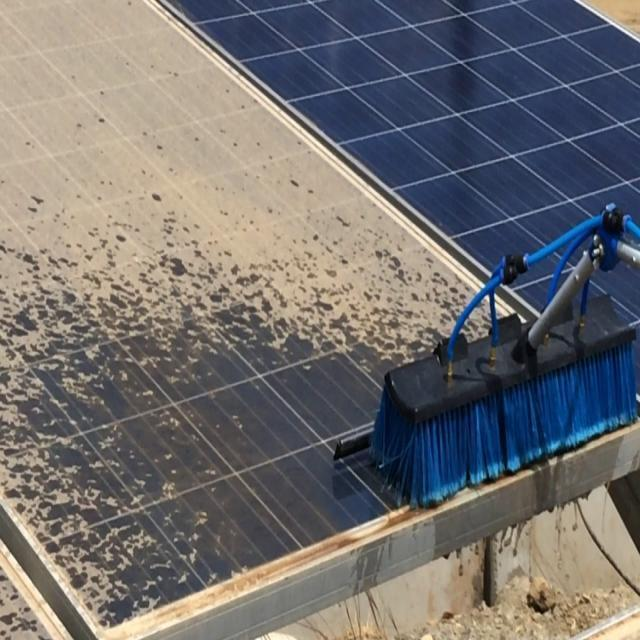faulty: (5, 0, 532, 627)
no faulty: (176, 0, 640, 260)
